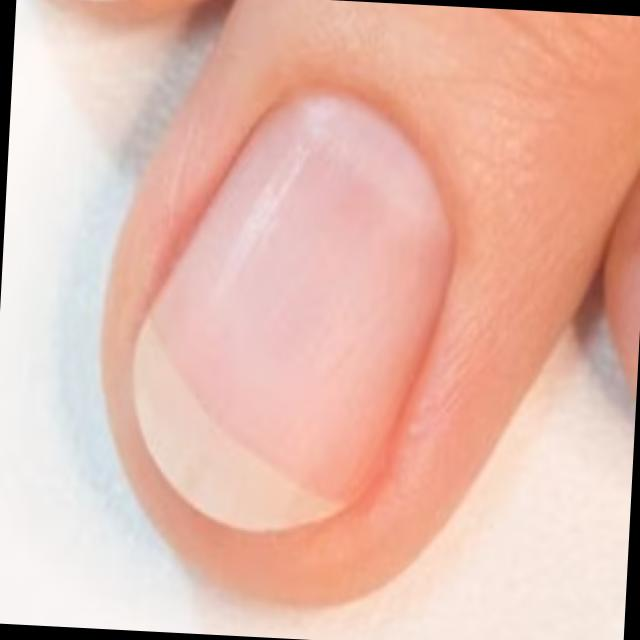Nail: (135, 96, 450, 531)
